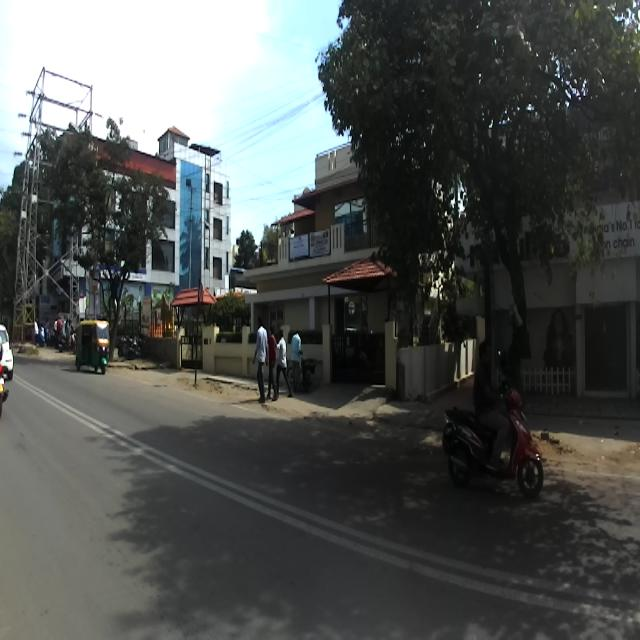auto ahead at: (70, 317, 116, 378)
motorcycle ahead at: (440, 386, 548, 498)
person ahead at: (285, 322, 311, 398), (250, 317, 271, 403), (272, 324, 290, 399)
